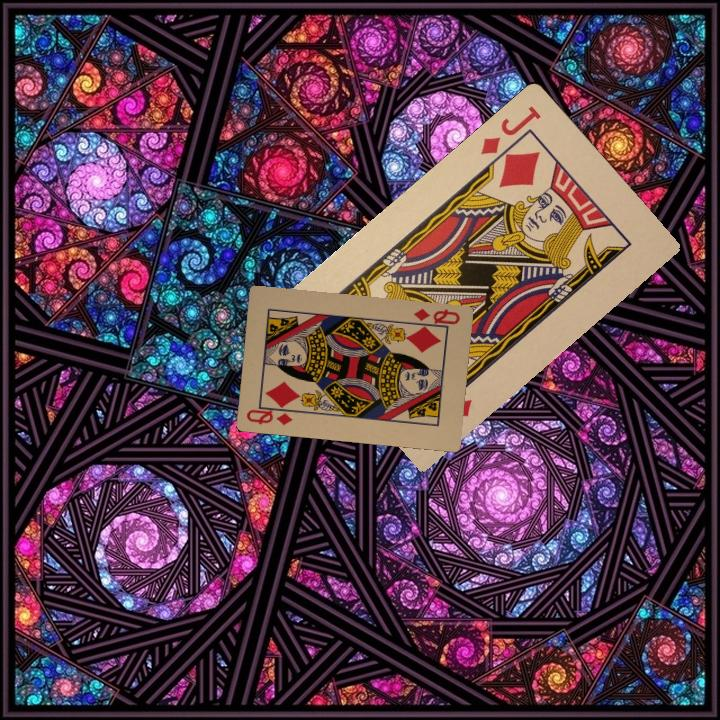Jd: (476, 101, 543, 157)
Qd: (409, 304, 462, 333), (242, 403, 299, 428)
